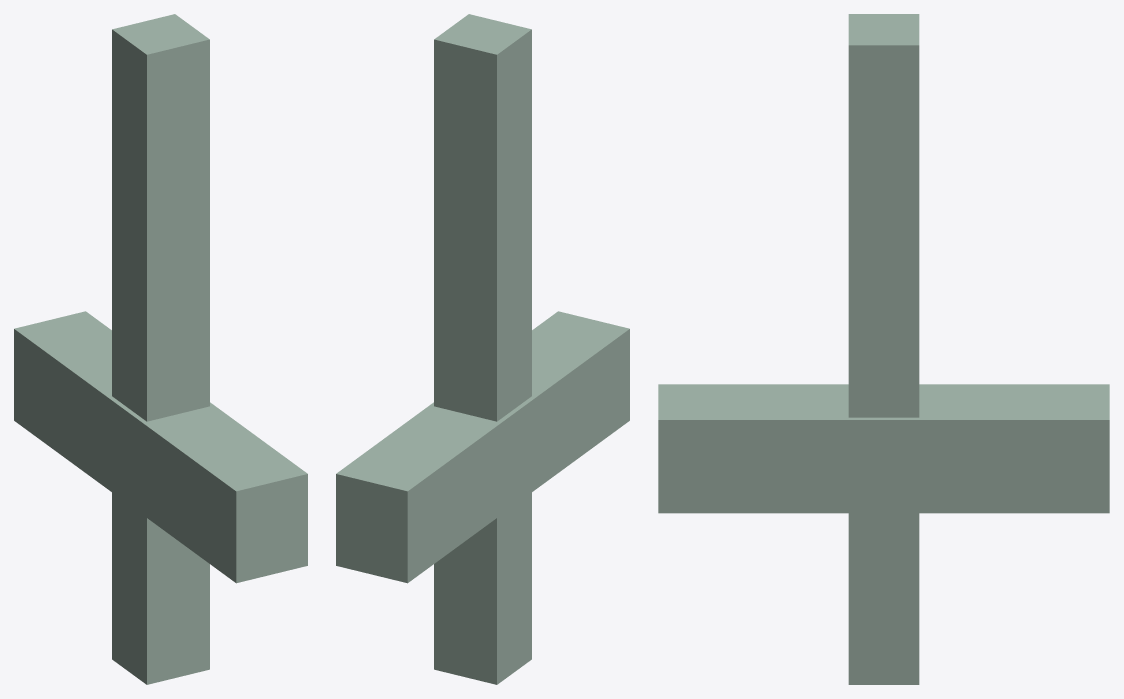
File: playerWeapon.obj
3 views of the same model, side by side, from view 1: azimuth 30°, elevation 25°; view 2: azimuth 150°, elevation 25°; view 3: azimuth 270°, elevation 25° (orthographic).
Parts seen in each view (by area): view 1: Cube; view 2: Cube; view 3: Cube.
Part boxes in pixels (x1,y1,x2,y2): Cube: (14, 14, 307, 684); Cube: (336, 14, 629, 684); Cube: (658, 14, 1109, 684).
Size of the model in its own units: 0.2384 by 2 by 1.28.
Materials: 1 (1 with a texture image).
